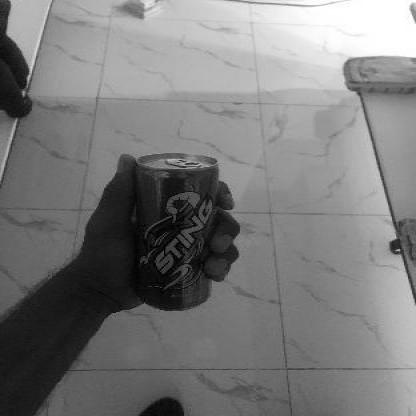alumunium_can: (134, 151, 221, 313)
